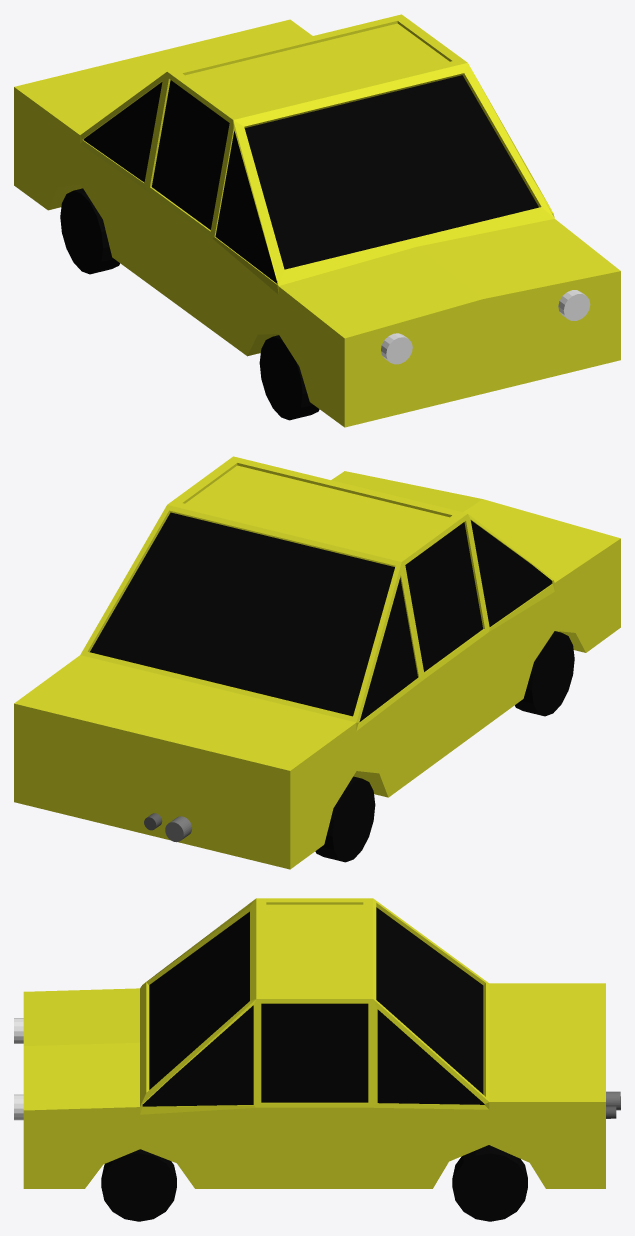
File: CarYellowStage1.fbx
3 views of the same model, one above another, from view 1: azimuth 30°, elevation 25°; view 2: azimuth 150°, elevation 25°; view 3: azimuth 270°, elevation 25° (orthographic). The views are drawn at different scales.
Parts seen in each view (by area): view 1: Car, wheels, Headlights; view 2: Car, wheels; view 3: Car, wheels, Headlights.
Part boxes in pixels (x1,y1,x2,y2): Car: (14,14,620,427); wheels: (60,188,319,420); Headlights: (381,290,590,364); Car: (14,456,620,869); wheels: (315,631,574,862); Car: (23,898,605,1188); wheels: (101,1145,527,1221); Headlights: (14,1018,23,1120).
Size of the model in its own units: 493 by 415 by 1063.
